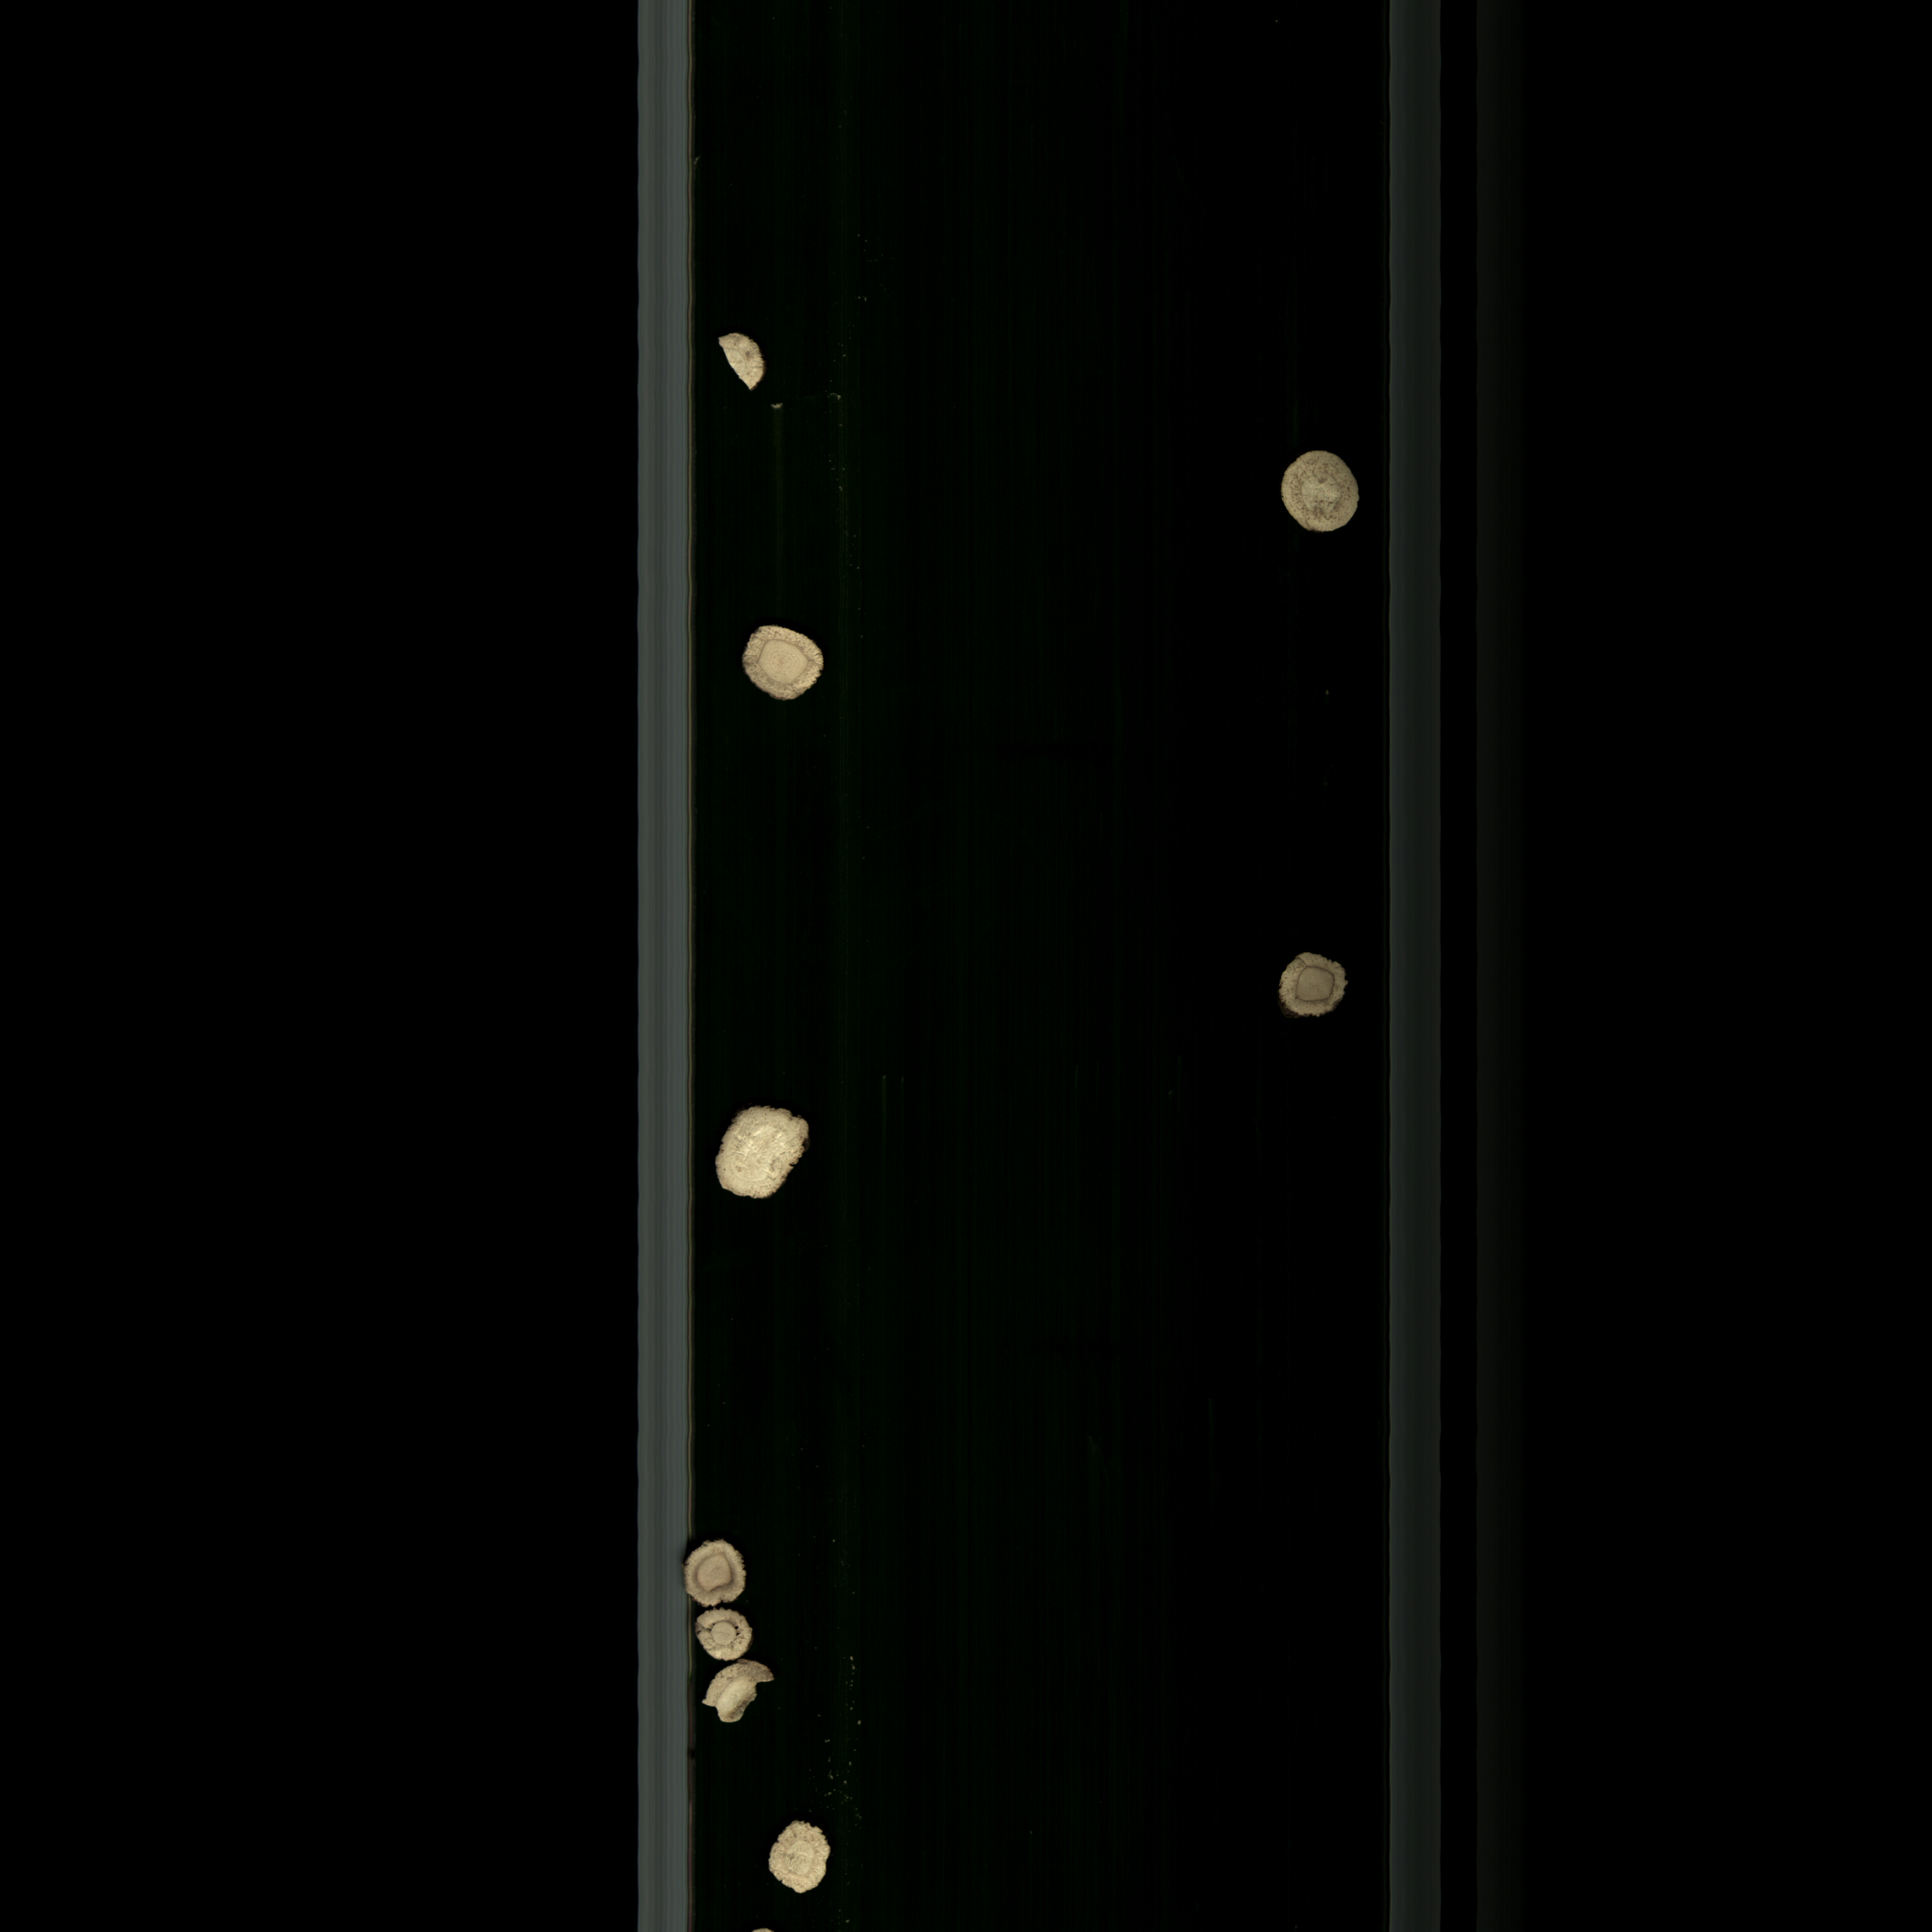debris: (708, 1652, 784, 1727), (708, 327, 773, 396)
distortion: (706, 1095, 821, 1210), (763, 1813, 846, 1900)
moldy: (1272, 449, 1369, 541), (1274, 950, 1353, 1023), (681, 1539, 757, 1605), (694, 1610, 768, 1663)
